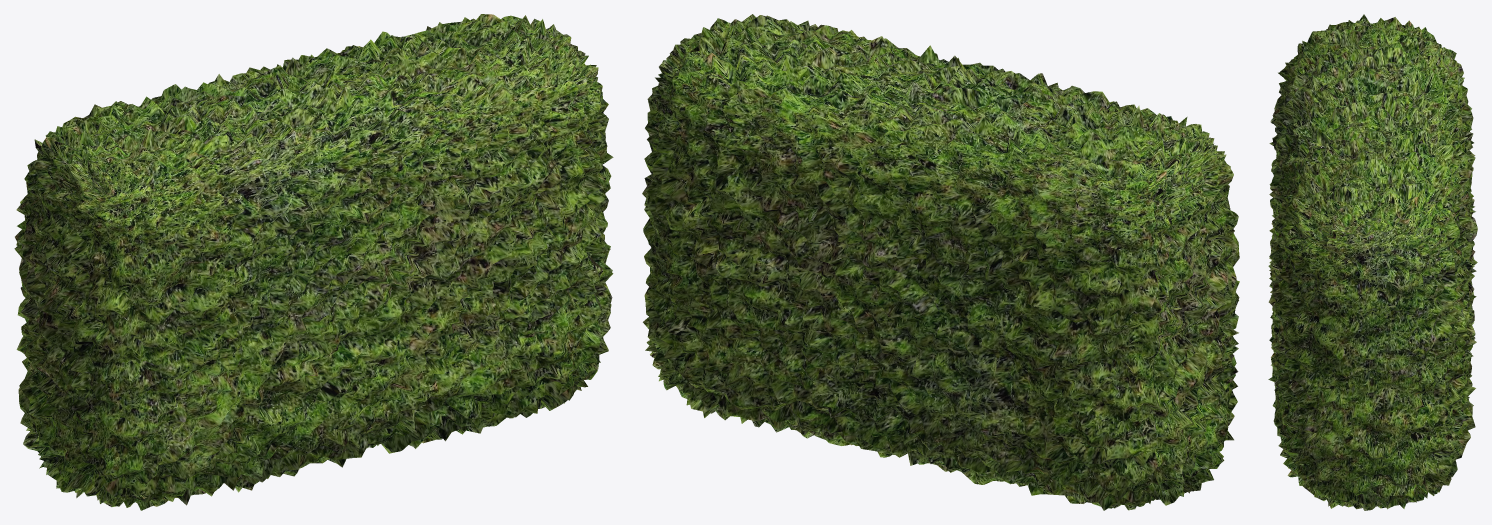
The picture shows the model from 3 angles, left to right: view 1: azimuth 30°, elevation 25°; view 2: azimuth 150°, elevation 25°; view 3: azimuth 270°, elevation 25°; orthographic projection. The views are drawn at different scales.
Visible parts, largest first — view 1: Node1; view 2: Node1; view 3: Node1.
Boxes of the visible parts, left/top/right/bottom form: Node1: left=14, top=14, right=613, bottom=510; Node1: left=642, top=14, right=1239, bottom=510; Node1: left=1268, top=14, right=1477, bottom=510.
Bounding box in the file's own units: 155 × 100 × 59.38.
Materials: 1 (1 with a texture image).
